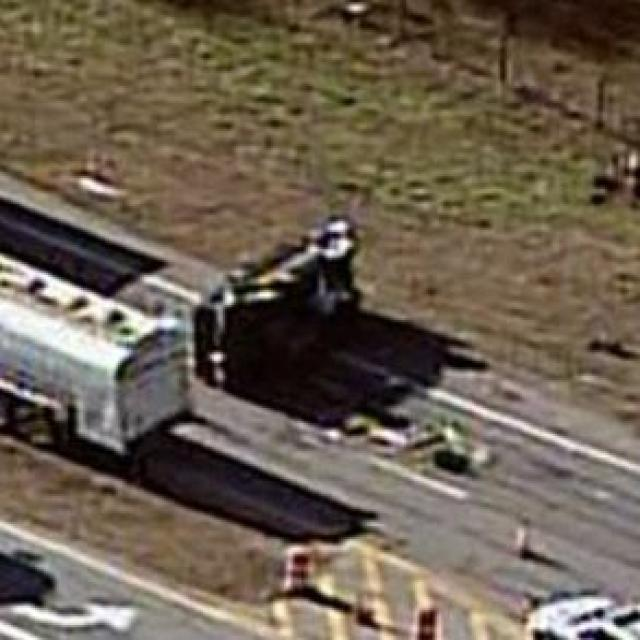traffic_incident: (192, 195, 358, 398)
